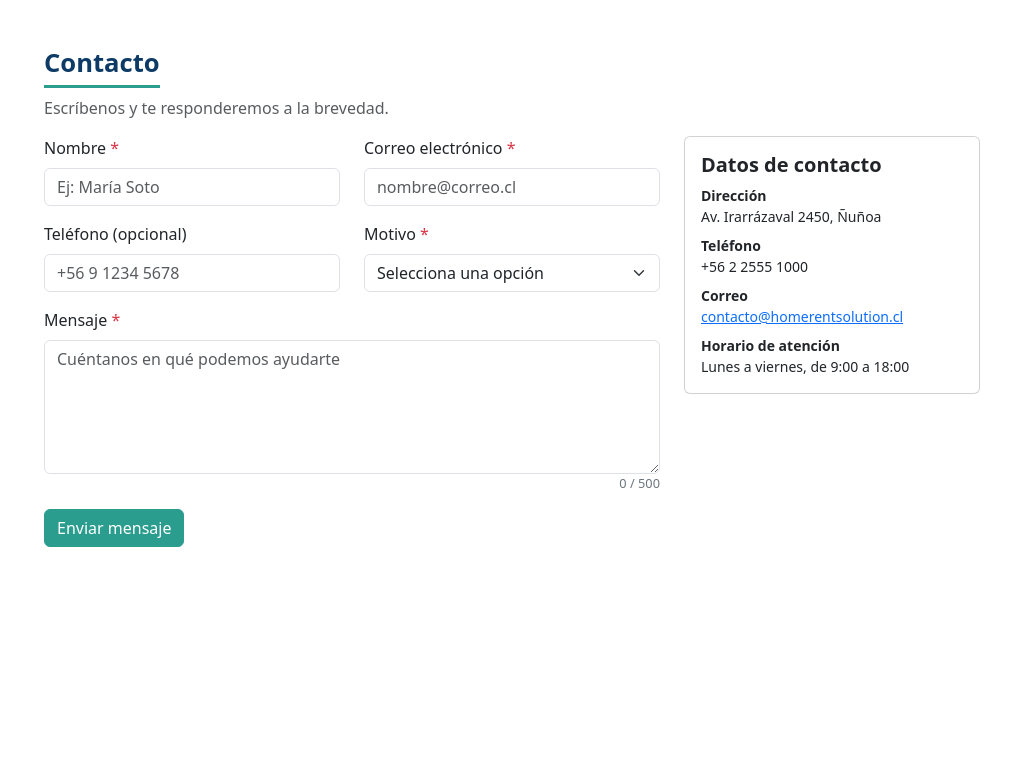
Test: Contacto › Al enviar vacío muestra los errores y no guarda nada
Click the button "Enviar mensaje" at (114, 528), box left=44, top=509, right=184, bottom=547
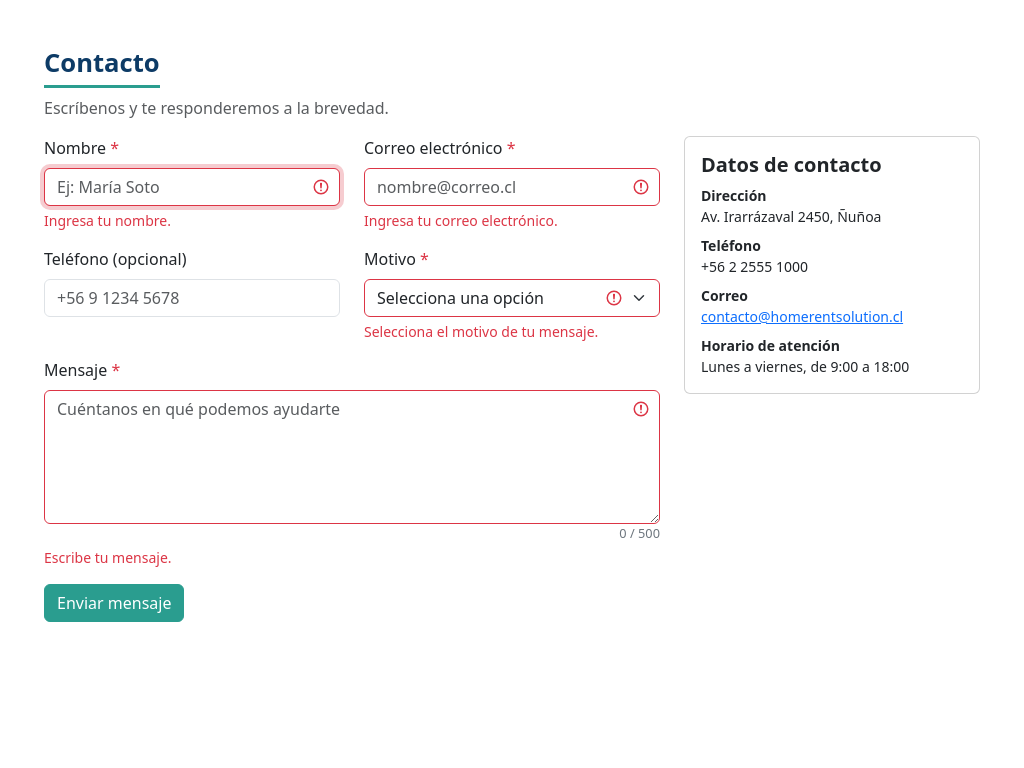
Now the text "Ingresa tu nombre." is shown, box left=44, top=211, right=171, bottom=230
Now the text "Ingresa tu correo electrónico." is shown, box left=364, top=211, right=558, bottom=230
Now the text "Selecciona el motivo de tu mensaje." is shown, box left=364, top=322, right=598, bottom=341
